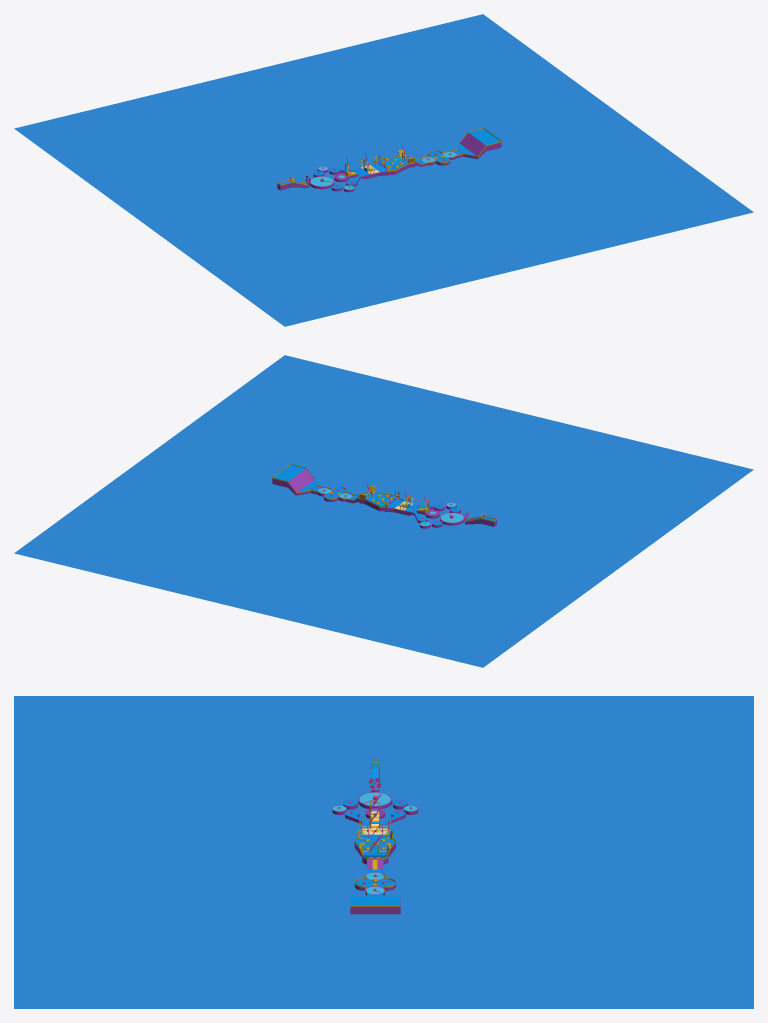
3 renders of one model, top to bottom at view 1: azimuth 30°, elevation 25°; view 2: azimuth 150°, elevation 25°; view 3: azimuth 270°, elevation 25°, orthographic. The views are drawn at different scales.
Visible parts, largest first — view 1: Plane.001, Cube, Cube.016; view 2: Plane.001, Cube, Cube.016; view 3: Plane.001, Cube, Cube.016.
Boxes of the visible parts, <box> form: Plane.001: <box>14,14,753,326</box>; Cube: <box>277,128,501,189</box>; Cube.016: <box>277,132,501,192</box>; Plane.001: <box>14,355,753,667</box>; Cube: <box>272,464,496,526</box>; Cube.016: <box>272,469,496,528</box>; Plane.001: <box>14,696,753,1008</box>; Cube: <box>332,759,417,906</box>; Cube.016: <box>332,761,418,914</box>.
Size of what is drawn, in the model's own units: 3666 by 178 by 3666.
